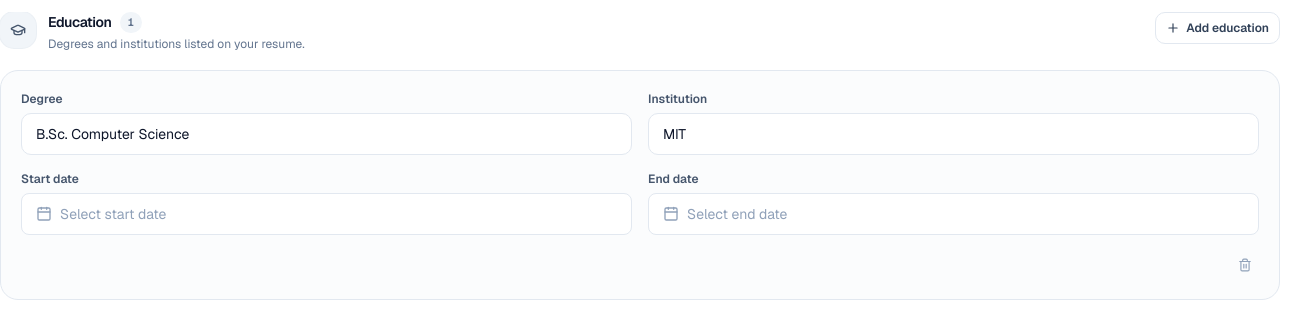
Test: EducationSection › removes an entry through a meaningful accessible name
The image size is (1292, 317).
Click the button named "Remove B.Sc. Computer Science at MIT" at (1245, 265), box [1231,251,1259,279]
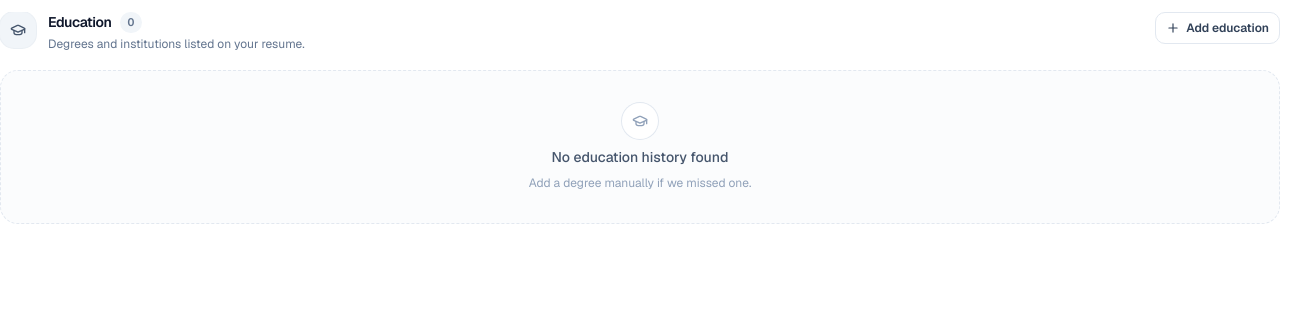
Expected: the text "No education history found" is shown, [552,147,728,167]
